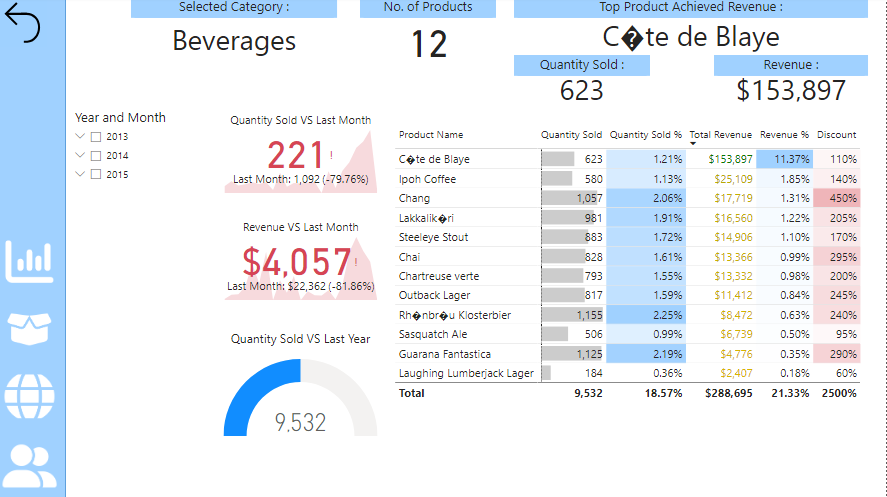

Layout of this report page (visuals, bound fields, positions):
{"tool":"powerbi","page":{"name":"Product Category Details","canvas":[1280,720],"ordinal":1},"visuals":[{"type":"card","title":"Selected Category :","fields":{"Values":["Min(categories.categoryName)"]},"box":[193,0,296.6,95],"z":0},{"type":"card","title":"Top Product Achieved Revenue :","fields":{"Values":["Min(products.productName)"]},"box":[744.5,0,509.8,83.5],"z":1000},{"type":"card","title":"Quantity Sold :","fields":{"Values":["_Measures Table.Quantity Sold"]},"box":[744.5,83.5,195.8,72],"z":2000},{"type":"card","title":"Revenue :","fields":{"Values":["_Measures Table.Total Revenue"]},"box":[1032.5,83.5,221.8,72],"z":3000},{"type":"card","title":"No. of Products","fields":{"Values":["_Measures Table.No. of Products"]},"box":[522.7,0,195.8,95],"z":4000},{"type":"tableEx","fields":{"Values":["products.productName","_Measures Table.Quantity Sold","_Measures Table.Quantity Sold %","_Measures Table.Total Revenue","_Measures Table.Revenue %","Sum(order_details.discount)"]},"box":[567.4,178.6,712.8,541.4],"z":5000},{"type":"shape","box":[0,0,99.4,800.6],"z":6000},{"type":"image","box":[7.2,345.6,79.2,70.6],"z":7000},{"type":"image","box":[5.8,538.6,82.1,73.4],"z":8000},{"type":"image","box":[10.1,440.6,73.4,76.3],"z":9000},{"type":"image","box":[2.8,628.8,88,91.2],"z":10000},{"type":"actionButton","box":[0,0,73.4,73.4],"z":11000},{"type":"kpi","title":"Quantity Sold VS Last Month","fields":{"Indicator":["_Measures Table.Quantity Sold"],"Goal":["_Measures Table.Quantity Sold LM"],"TrendLine":["Calendar.Start of Month"]},"box":[322.7,165.9,229.8,121.8],"z":12000},{"type":"slicer","fields":{"Values":["Calendar.Year","Calendar.Start of Month"]},"box":[99.4,155.5,188.6,564.5],"z":13000},{"type":"kpi","title":"Revenue VS Last Month","fields":{"Indicator":["_Measures Table.Total Revenue"],"Goal":["_Measures Table.Total Revenue LM"],"TrendLine":["Calendar.Start of Month"]},"box":[322.7,319.6,229.8,121.8],"z":14000},{"type":"gauge","title":"Quantity Sold VS Last Year","fields":{"Y":["_Measures Table.Quantity Sold"],"TargetValue":["_Measures Table.Quantity Sold LY"]},"box":[321.1,479.5,231.8,171.4],"z":15000}]}

Visuals, with their boxes on the page's 1280x720 design canvas (x1, y1, x2, y2). These are canvas units, not pixel positions in the 887x497 screenshot, which may show the page scaled, cropped or inside an application window:
"Selected Category :" card: 193 0 490 95
"Top Product Achieved Revenue :" card: 744 0 1254 84
"Quantity Sold :" card: 744 84 940 156
"Revenue :" card: 1032 84 1254 156
"No. of Products" card: 523 0 718 95
tableEx - products.productName x _Measures Table.Quantity Sold: 567 179 1280 720
shape: 0 0 99 801
image: 7 346 86 416
image: 6 539 88 612
image: 10 441 84 517
image: 3 629 91 720
actionButton: 0 0 73 73
"Quantity Sold VS Last Month" kpi: 323 166 552 288
slicer - Calendar.Year x Calendar.Start of Month: 99 156 288 720
"Revenue VS Last Month" kpi: 323 320 552 441
"Quantity Sold VS Last Year" gauge: 321 480 553 651
